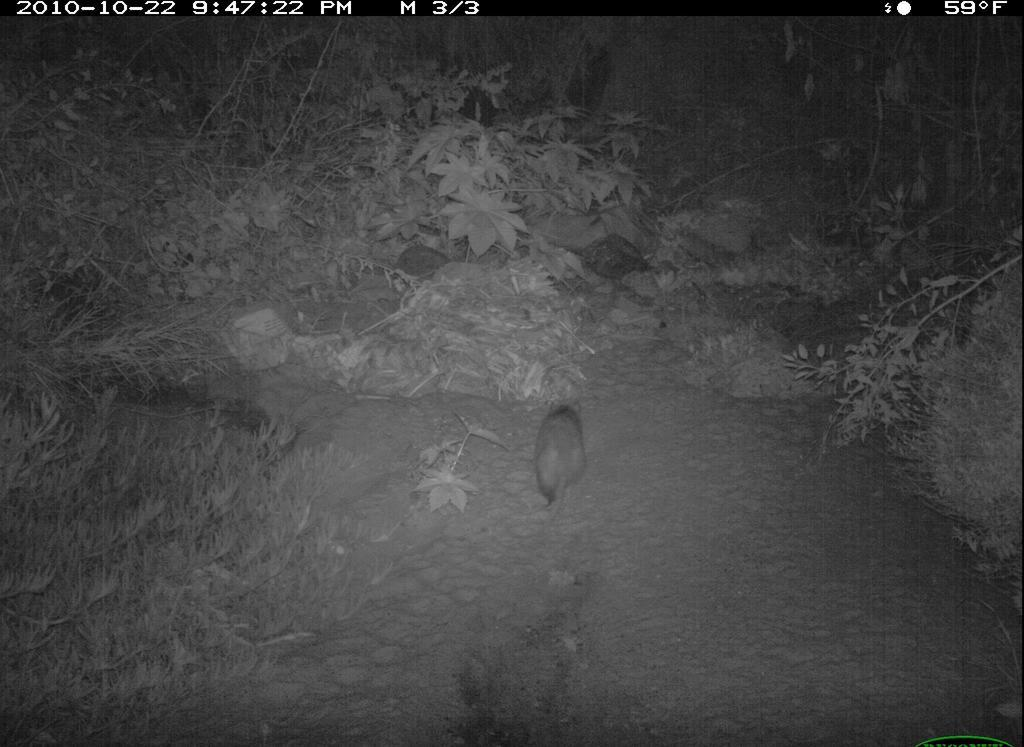opossum: (525, 379, 606, 533)
